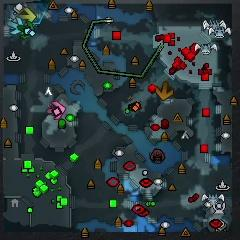x1: (47, 102, 65, 120)
x2: (20, 7, 36, 22)
x3: (9, 17, 22, 35)
x4: (18, 20, 35, 38)
x5: (155, 82, 173, 100)
